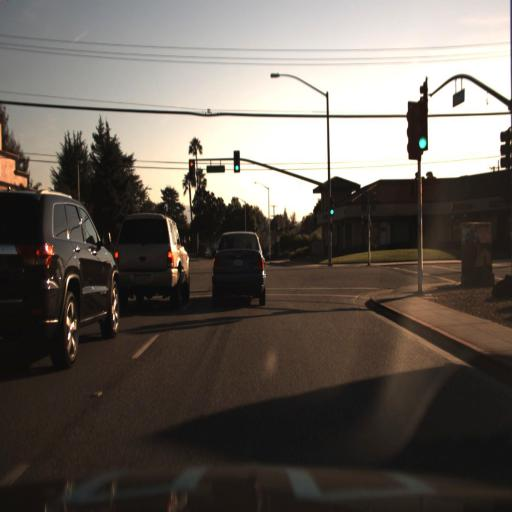car: (0, 176, 125, 369), (113, 205, 194, 325), (204, 222, 277, 314)
trafficLight-Green: (405, 98, 427, 160), (415, 124, 430, 160), (231, 151, 241, 180), (327, 198, 337, 222)
trafficLight-RedLeft: (186, 155, 195, 181)
